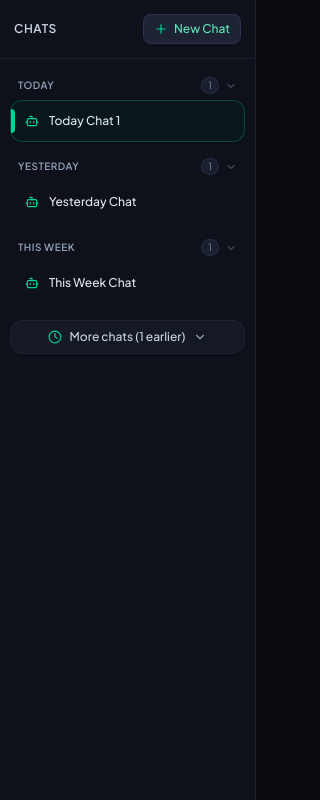
Test: SessionSidebar component tests › allows collapsing and expanding a section
expect the text "Yesterday Chat" is shown: met, box [49, 194, 137, 210]
# Click Yesterday section header to collapse
Click the text "Yesterday": (49, 166) [18, 159, 79, 174]
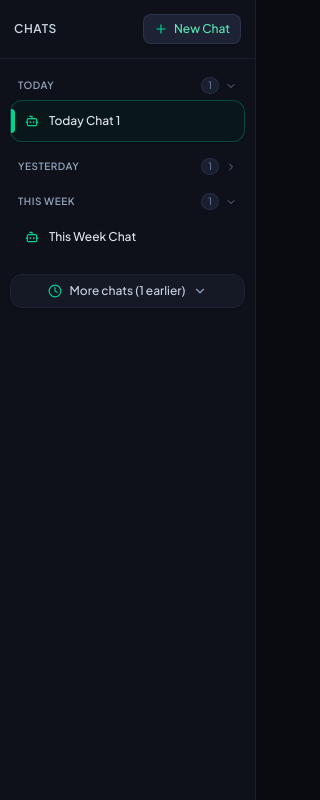
expect the text "Yesterday Chat" is gone: met
# Click again to expand
Click the text "Yesterday": (49, 166) [18, 159, 79, 174]
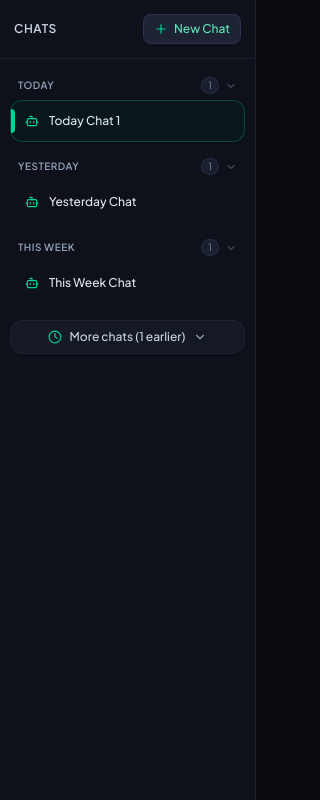
expect the text "Yesterday Chat" is shown: met, box [49, 194, 137, 210]
